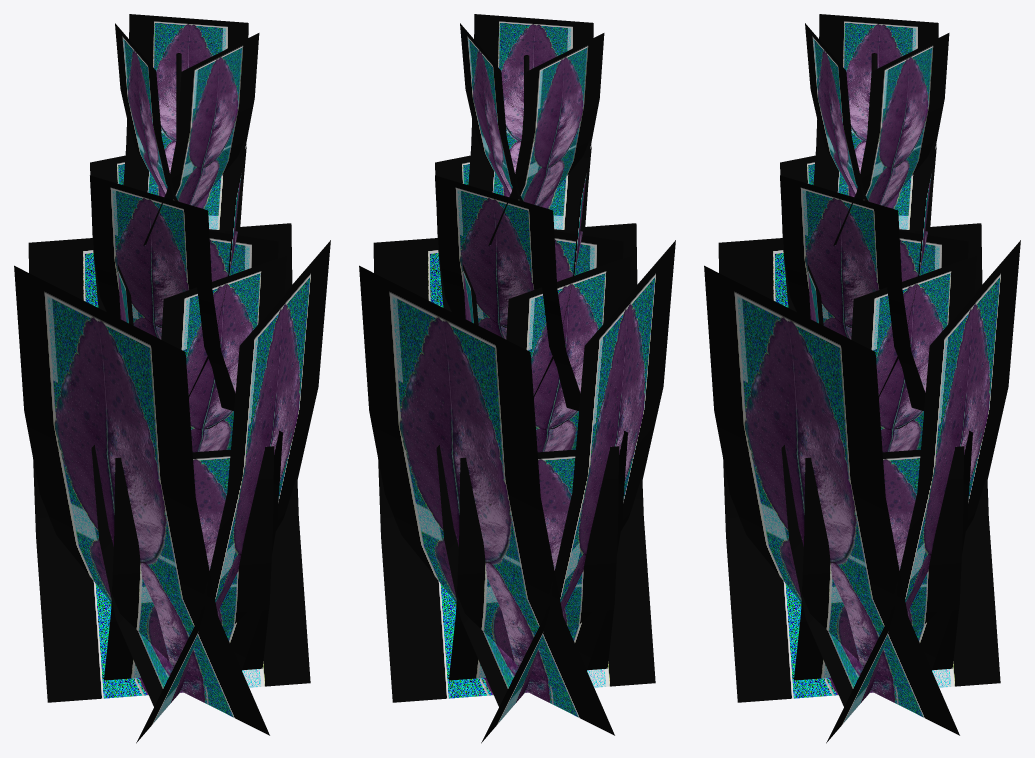
Rendered from violet1.FBX.
The picture shows the model from 3 angles, left to right: view 1: azimuth 30°, elevation 25°; view 2: azimuth 150°, elevation 25°; view 3: azimuth 270°, elevation 25°; orthographic projection.
Parts seen in each view (by area): view 1: Plane074; view 2: Plane074; view 3: Plane074.
Boxes of the visible parts, x1,y1,x2,y2 form: Plane074: [14, 14, 330, 743]; Plane074: [359, 14, 675, 743]; Plane074: [704, 14, 1020, 743].
Bounding box in the file's own units: 98.27 × 232 × 102.
